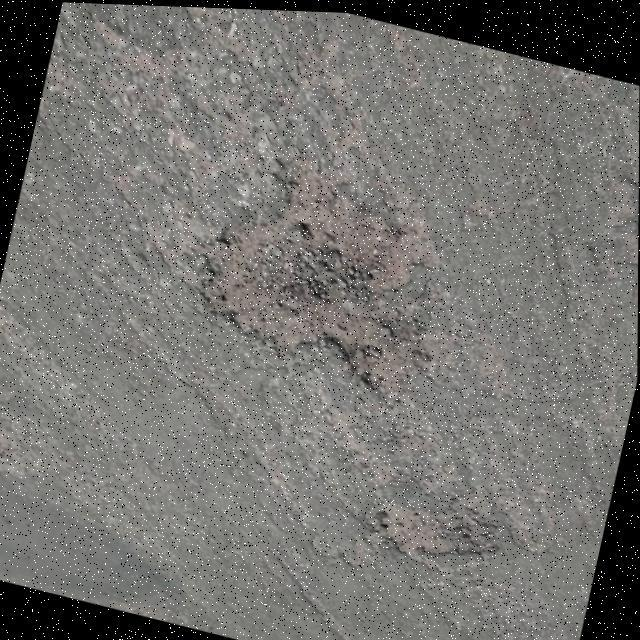pothole: (154, 134, 494, 407)
